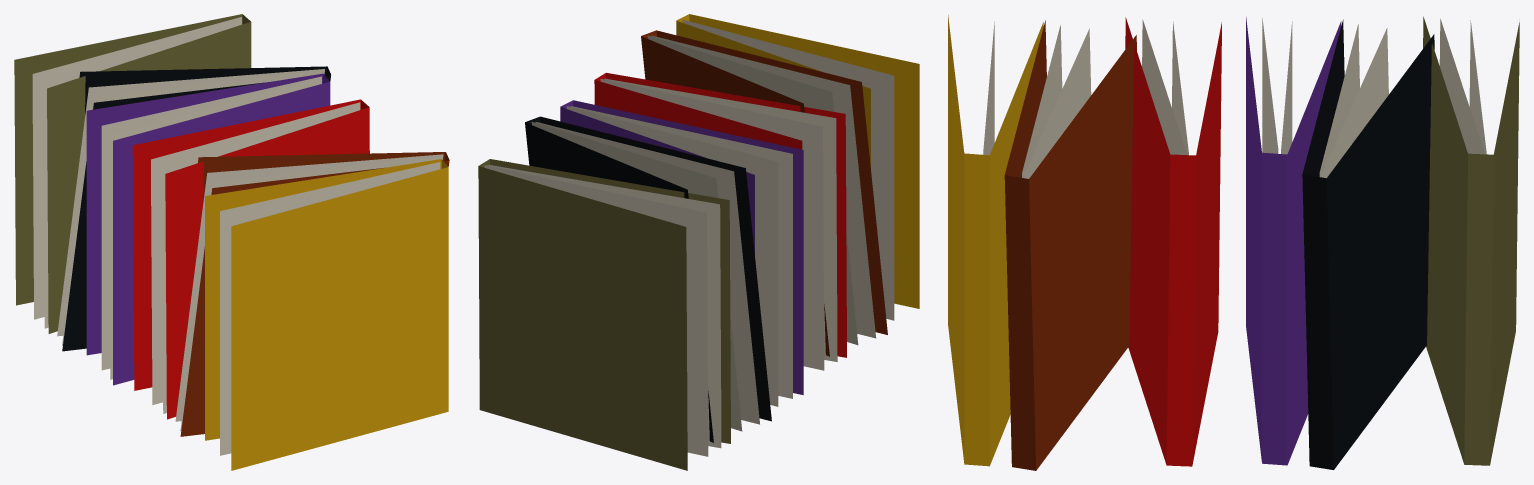
The model's file is Books-OnShelf-Office_01.fbx.
The picture shows the model from 3 angles, left to right: view 1: azimuth 30°, elevation 25°; view 2: azimuth 150°, elevation 25°; view 3: azimuth 270°, elevation 25°; orthographic projection. The views are drawn at different scales.
Parts seen in each view (by area): view 1: Books-OnShelf-_01; view 2: Books-OnShelf-_01; view 3: Books-OnShelf-_01.
Boxes of the visible parts, x1,y1,x2,y2 form: Books-OnShelf-_01: [14, 14, 449, 470]; Books-OnShelf-_01: [478, 14, 919, 470]; Books-OnShelf-_01: [948, 15, 1519, 470].
Bounding box in the file's own units: 0.3347 × 0.3209 × 0.5067.
